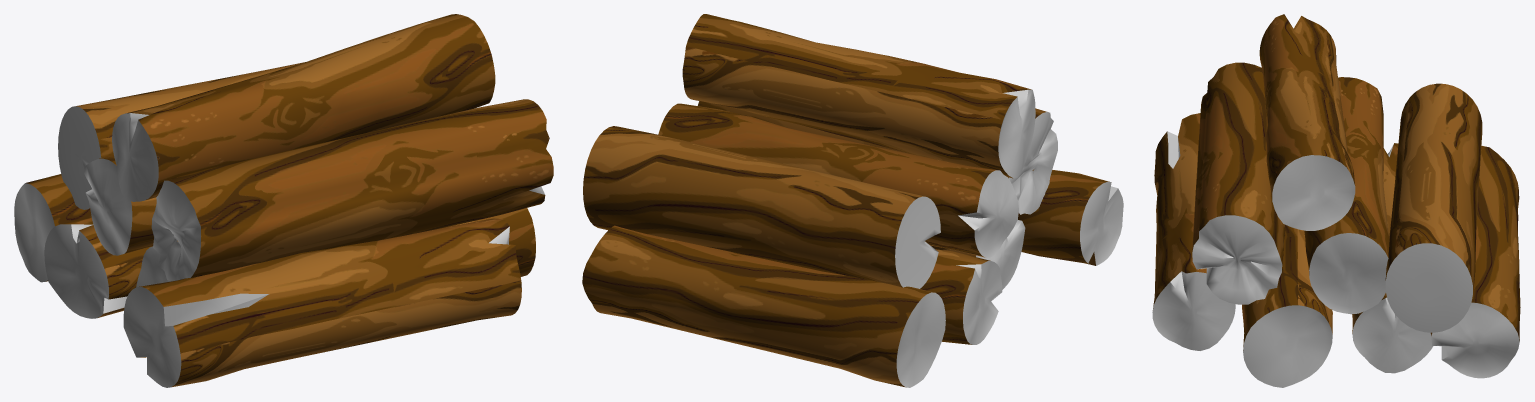
Rendered from Tree Log.fbx.
3 views of the same model, side by side, from view 1: azimuth 30°, elevation 25°; view 2: azimuth 150°, elevation 25°; view 3: azimuth 270°, elevation 25° (orthographic). The views are drawn at different scales.
Parts seen in each view (by area): view 1: Object_2; view 2: Object_2; view 3: Object_2.
Boxes of the visible parts, left/top/right/bottom form: Object_2: left=14, top=14, right=553, bottom=387; Object_2: left=582, top=14, right=1123, bottom=387; Object_2: left=1152, top=14, right=1520, bottom=387.
Size of the model in its own units: 101 by 58.89 by 87.97.
